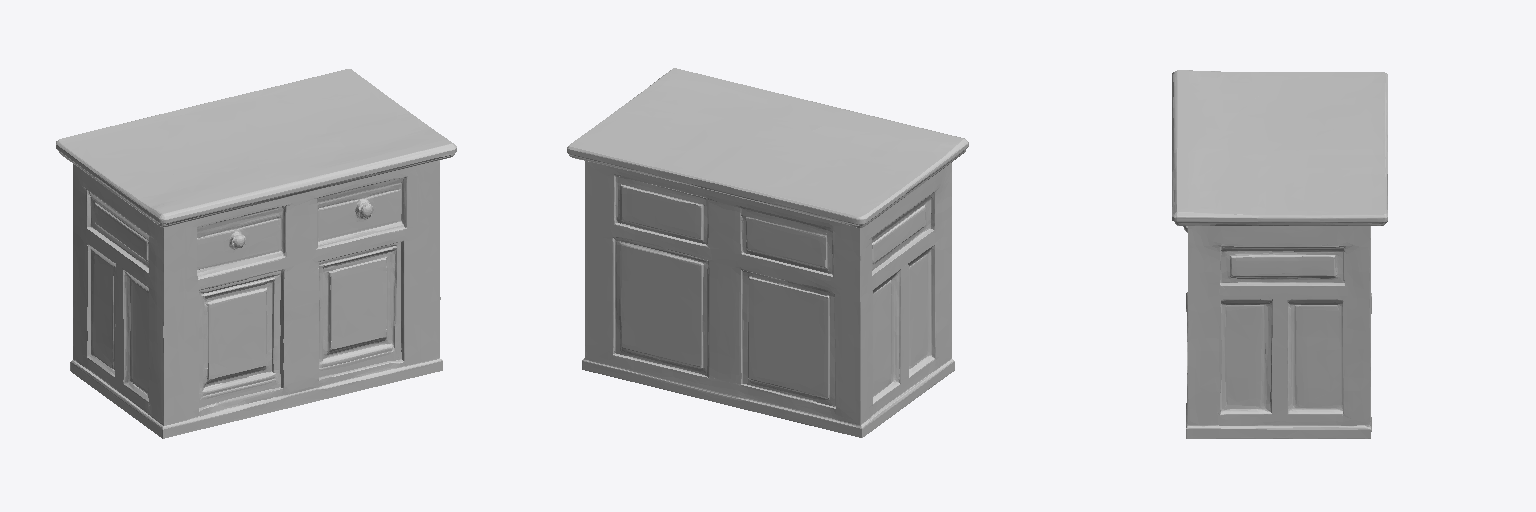
Rendered from CR_ring_toss_counter.obj.
3 renders of one model, left to right at view 1: azimuth 30°, elevation 25°; view 2: azimuth 150°, elevation 25°; view 3: azimuth 270°, elevation 25°, orthographic.
Visible parts, largest first — view 1: geometry_0; view 2: geometry_0; view 3: geometry_0.
Part boxes in pixels (left/top/right/bottom): geometry_0: left=56, top=69, right=456, bottom=438; geometry_0: left=567, top=68, right=968, bottom=437; geometry_0: left=1172, top=70, right=1387, bottom=438.
Size of the model in its own units: 25.02 by 18.44 by 15.76.